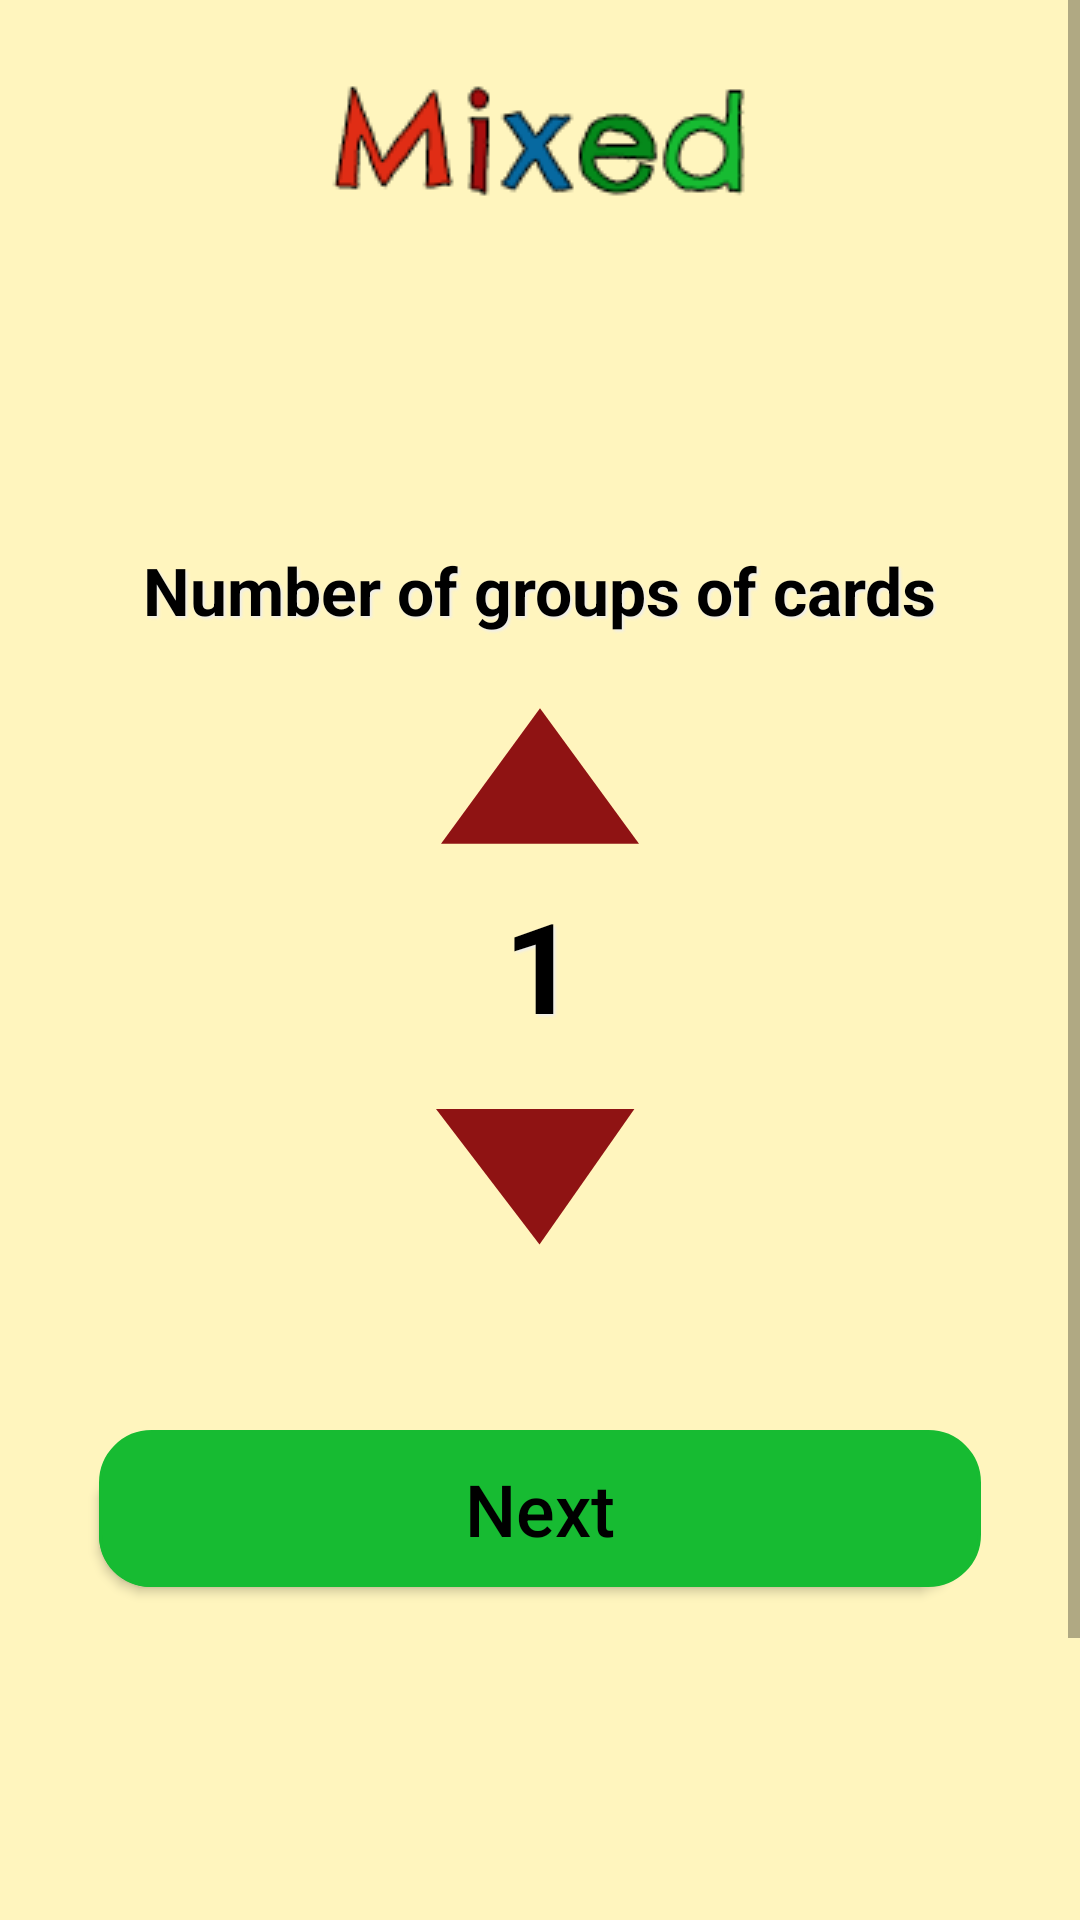

Icon bounding boxes for this 1080px×1920px phone screenshot, format (x1, y1, x2, y2):
of cards triangle down: (436, 1109, 634, 1245)
of cards triangle up: (441, 708, 639, 844)
